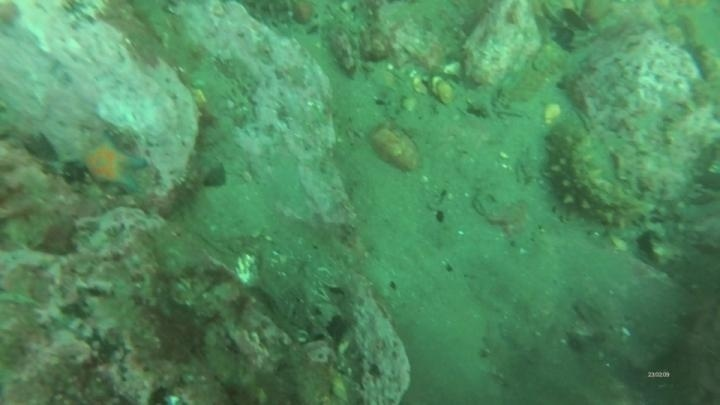holothurian: (541, 123, 651, 233)
starfish: (75, 132, 149, 197)
